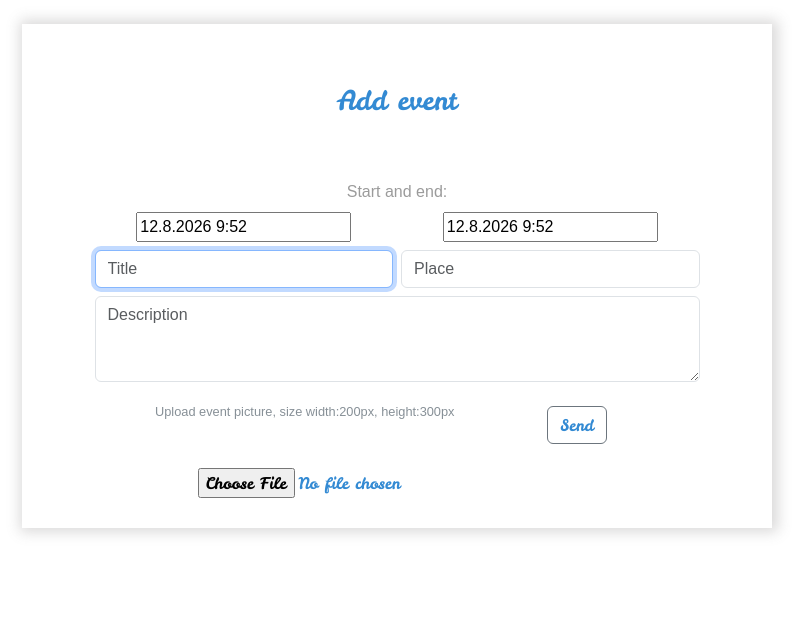
EventForm — validation › clears title error when valid title is entered
This screenshot has width=799, height=632.
Submit the form "Send", box [94,183,700,444]
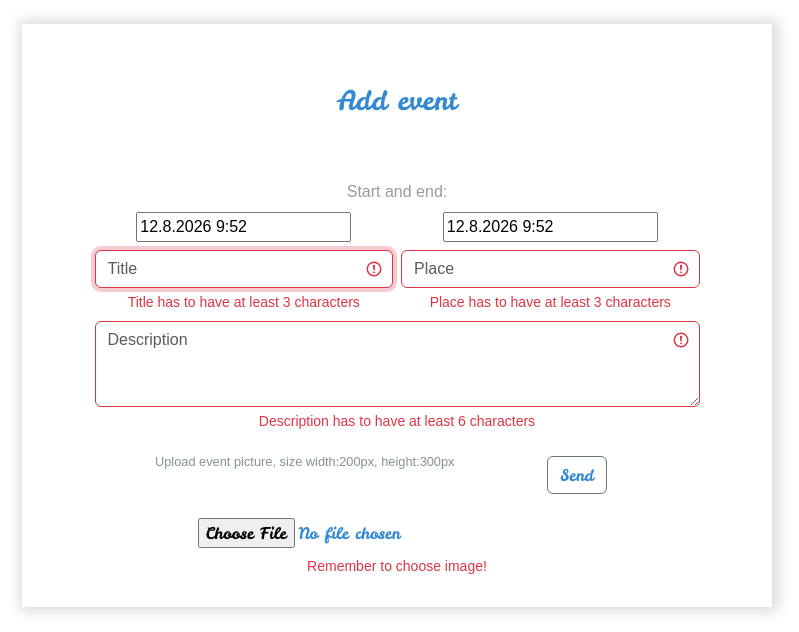
Now the text "Title has to have at least 3 characters" is shown, box [128,294,360,310]
Type "Kesänäyttely 2026" into the field with placeholder "Title" at (244, 269), box [94,250,393,288]
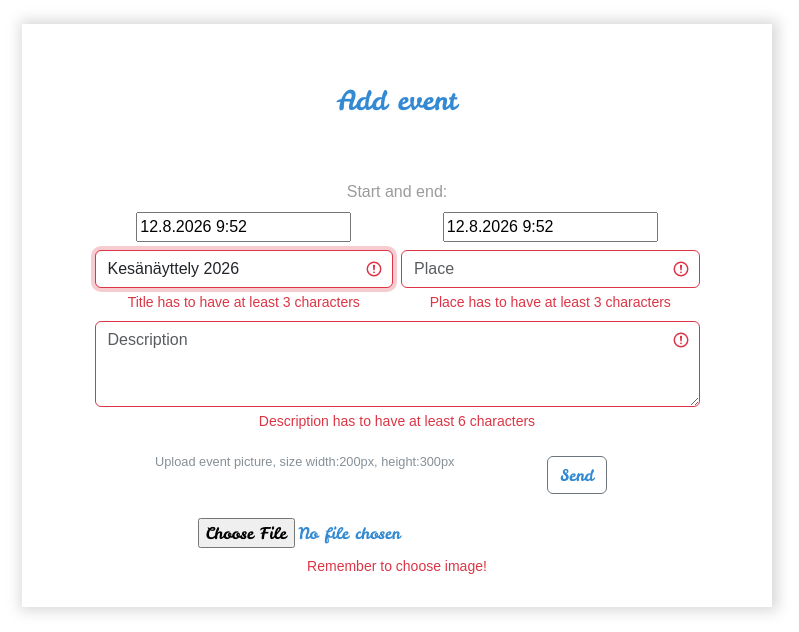
Submit the form named "send", box [94,183,700,494]
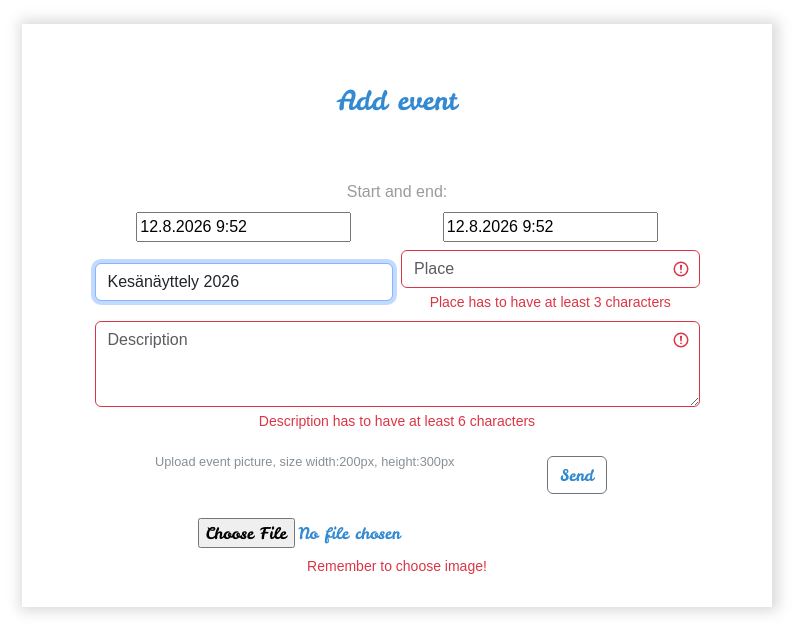
Now the text "Title has to have at least 3 characters" is gone
